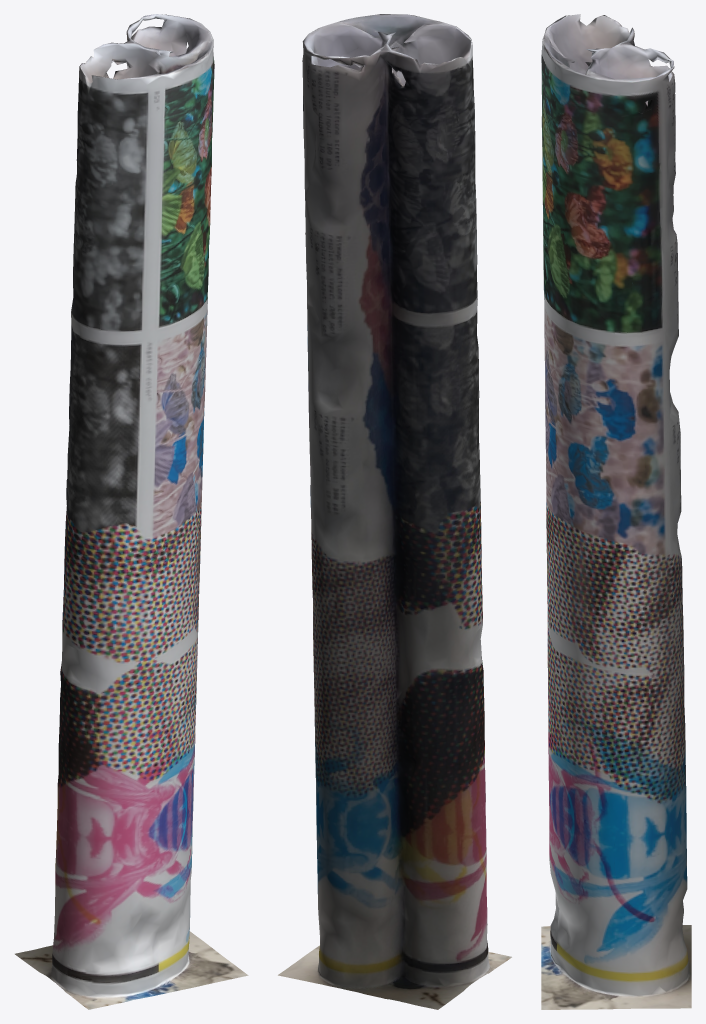
The model's file is 3DModel_LowPoly.obj.
3 views of the same model, side by side, from view 1: azimuth 30°, elevation 25°; view 2: azimuth 150°, elevation 25°; view 3: azimuth 270°, elevation 25° (orthographic).
Parts seen in each view (by area): view 1: grp1; view 2: grp1; view 3: grp1.
Part boxes in pixels (x1=…): grp1: x1=15, y1=14, x2=248, y2=1009; grp1: x1=278, y1=14, x2=511, y2=1009; grp1: x1=541, y1=14, x2=691, y2=1009.
Bounding box in the file's own units: 0.6022 × 3.31 × 0.4848.
1 material, 1 textured.
